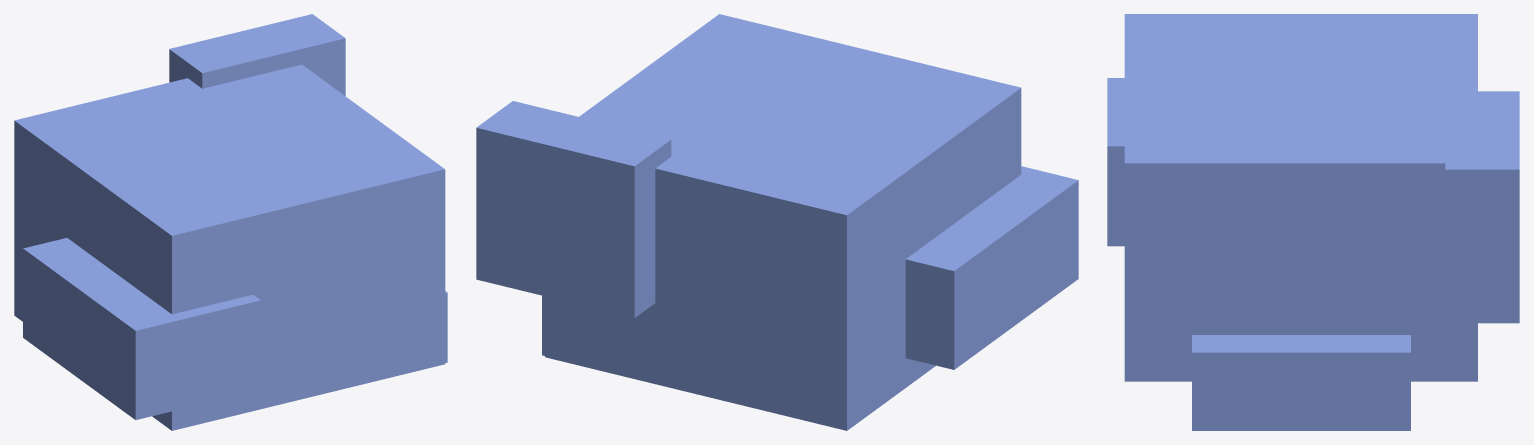
The model's file is floor3.fbx.
3 views of the same model, side by side, from view 1: azimuth 30°, elevation 25°; view 2: azimuth 150°, elevation 25°; view 3: azimuth 270°, elevation 25° (orthographic). The views are drawn at different scales.
Visible parts, largest first — view 1: Cube.009, Cube.007, Cube.008; view 2: Cube.009, Cube.008, Cube.007; view 3: Cube.009, Cube.010, Cube.008, Cube.007.
Boxes of the visible parts, <box> form: Cube.009: <box>14,64,445,430</box>; Cube.007: <box>23,238,260,419</box>; Cube.008: <box>169,14,345,95</box>; Cube.009: <box>545,14,1021,430</box>; Cube.008: <box>476,101,671,317</box>; Cube.007: <box>905,166,1078,369</box>; Cube.009: <box>1124,14,1477,381</box>; Cube.010: <box>1192,335,1410,430</box>; Cube.008: <box>1445,91,1519,323</box>; Cube.007: <box>1107,78,1124,246</box>.
Size of the model in its own units: 132 by 83.51 by 117.
